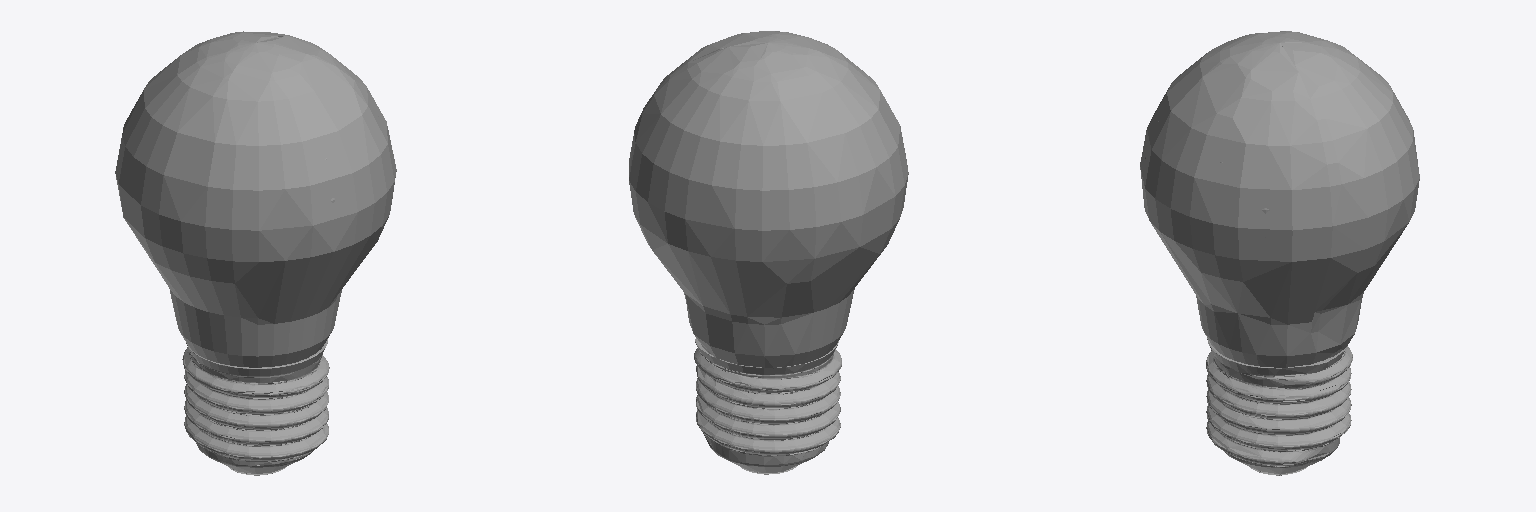
File: bulb.obj
3 views of the same model, side by side, from view 1: azimuth 30°, elevation 25°; view 2: azimuth 150°, elevation 25°; view 3: azimuth 270°, elevation 25° (orthographic).
Parts seen in each view (by area): view 1: Light_Bulb, TooBig0; view 2: Light_Bulb, TooBig0; view 3: Light_Bulb, TooBig0.
Boxes of the visible parts, <box> form: Light_Bulb: <box>115,31,396,367</box>; TooBig0: <box>182,339,329,475</box>; Light_Bulb: <box>629,31,908,368</box>; TooBig0: <box>694,338,841,474</box>; Light_Bulb: <box>1140,31,1419,367</box>; TooBig0: <box>1206,338,1352,475</box>.
Bounding box in the file's own units: 0.3245 × 0.5447 × 0.324.